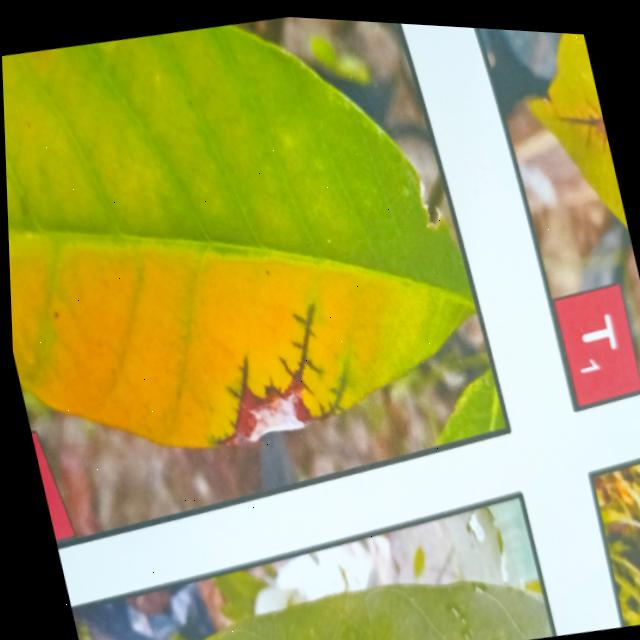Corynespora: (266, 297, 333, 398), (193, 350, 263, 445), (556, 90, 609, 150), (304, 368, 354, 421)
Leaf-Blight: (237, 387, 306, 441)
